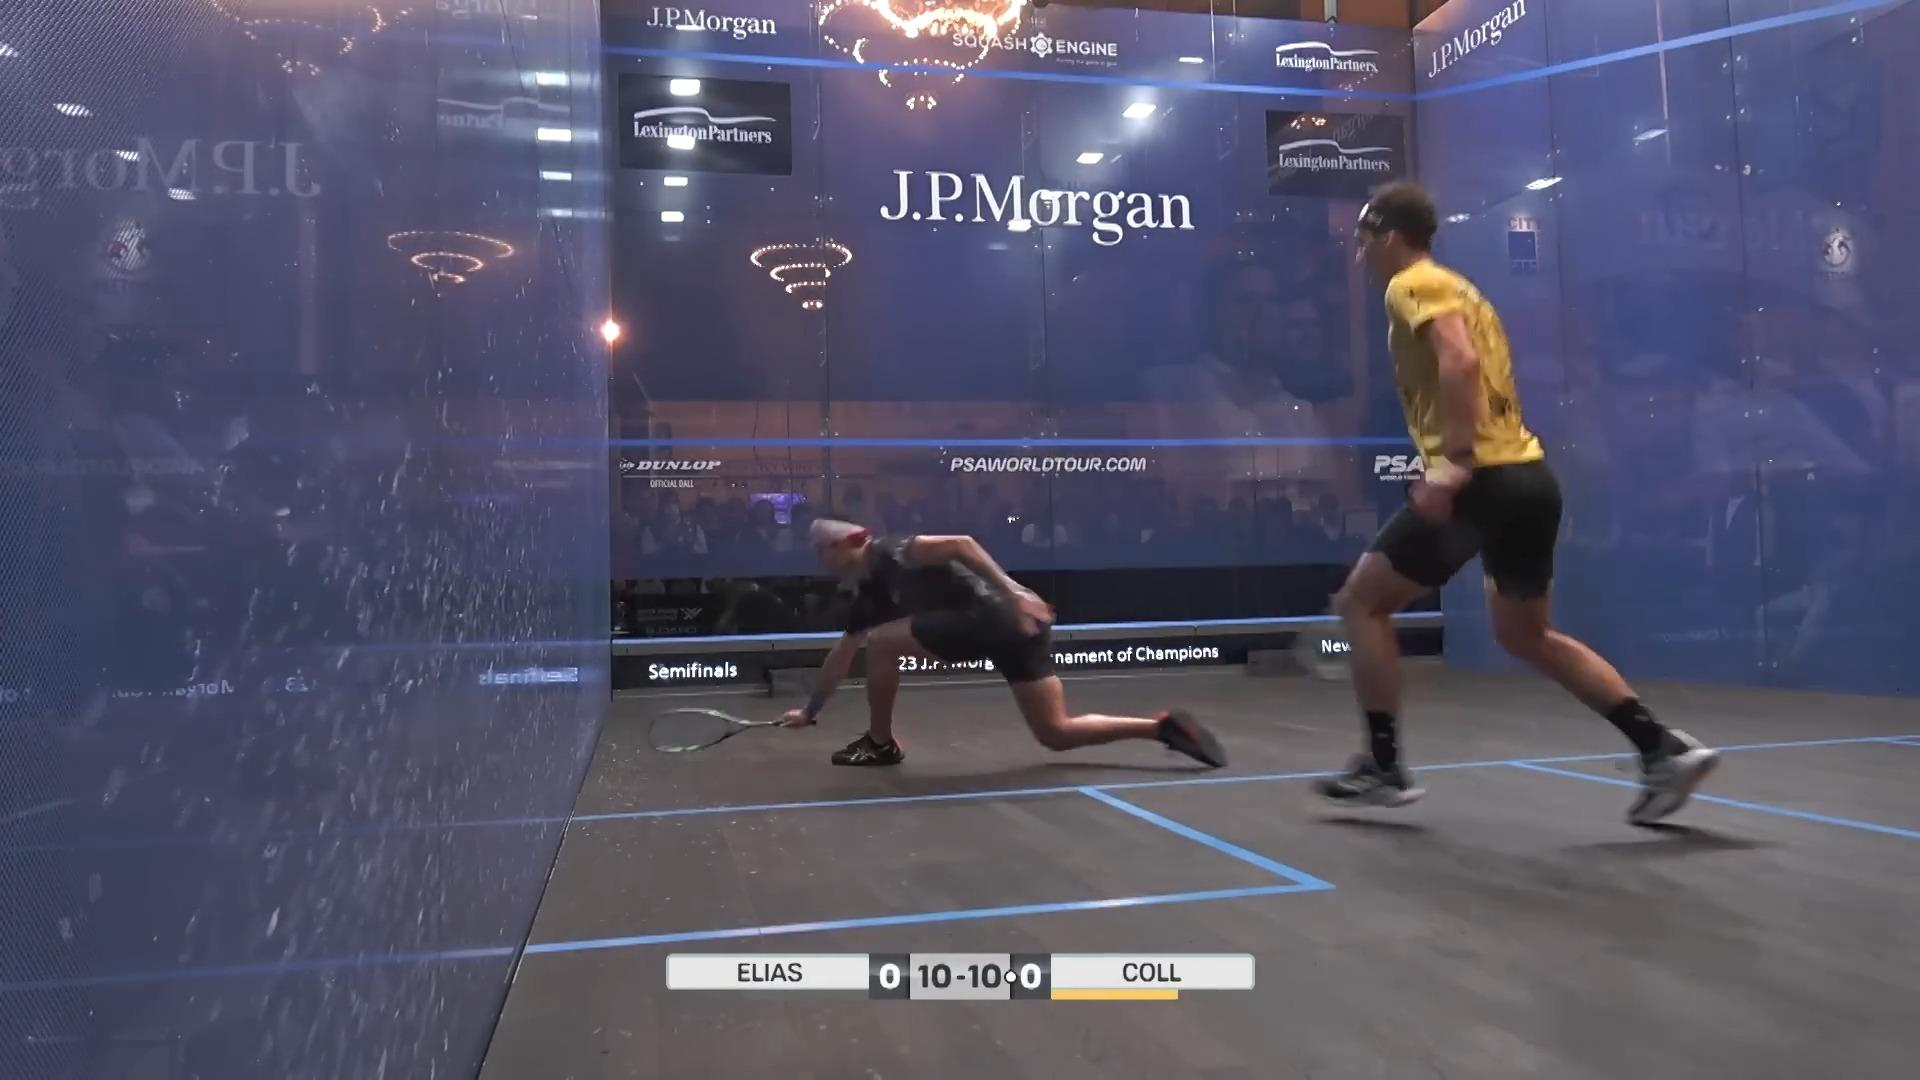Racket: (632, 696, 808, 770)
